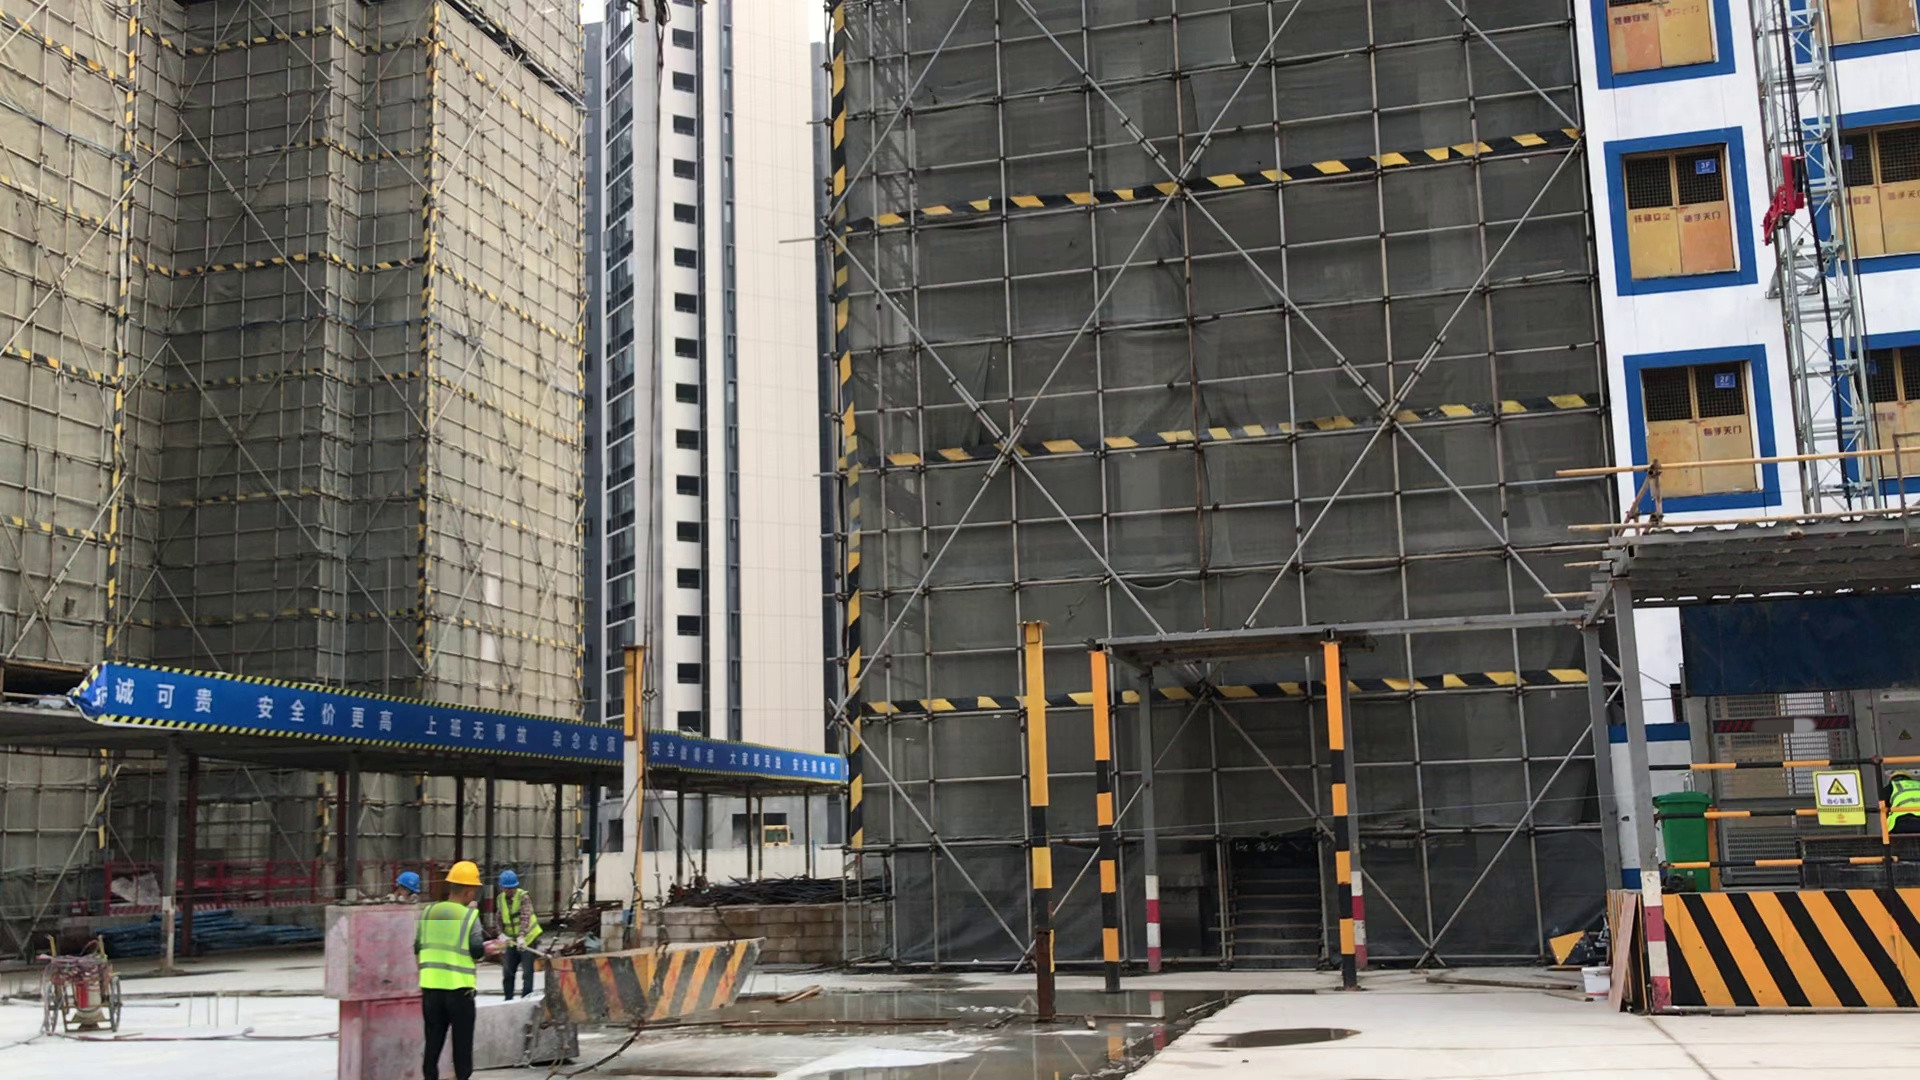fence: (109, 859, 395, 919)
handcart: (42, 933, 123, 1039)
helmet: (444, 861, 483, 888), (395, 869, 421, 895), (499, 868, 519, 889)
hopper: (548, 945, 763, 1026), (473, 984, 588, 1069)
person: (413, 860, 486, 1080), (493, 869, 544, 1001), (1887, 768, 1920, 827)
slogan: (96, 666, 848, 785)
vest: (417, 902, 478, 991), (500, 889, 543, 947), (1887, 780, 1920, 829)
